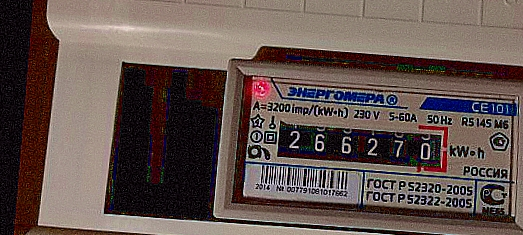0: (417, 140, 431, 162)
2: (286, 128, 301, 150), (364, 135, 378, 157)
6: (312, 132, 326, 153), (338, 134, 352, 154)
7: (389, 137, 404, 159)
screen: (265, 108, 456, 181)
